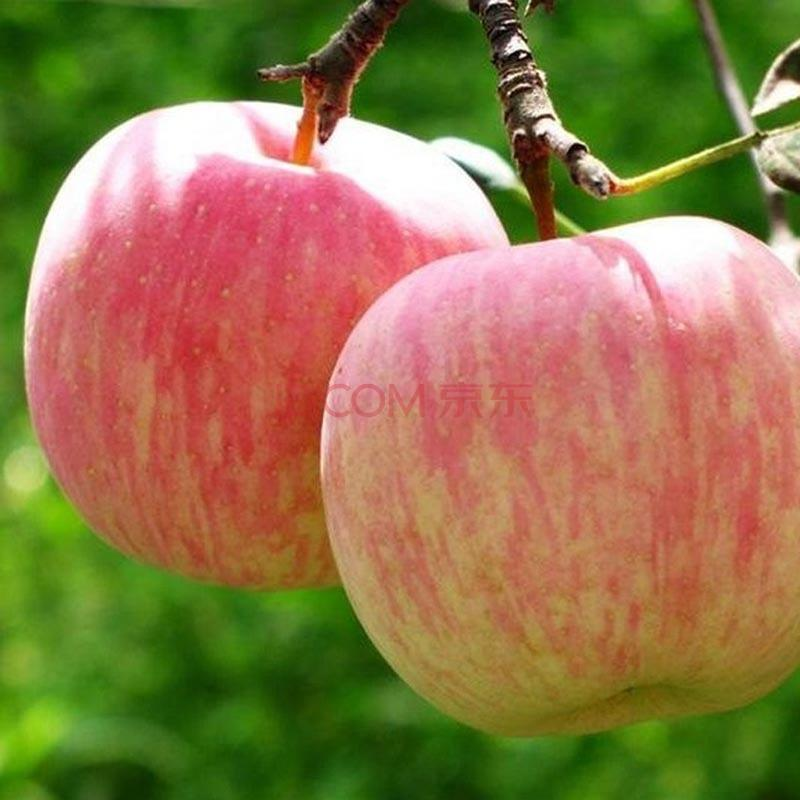apple: (306, 220, 800, 736), (16, 105, 496, 599)
